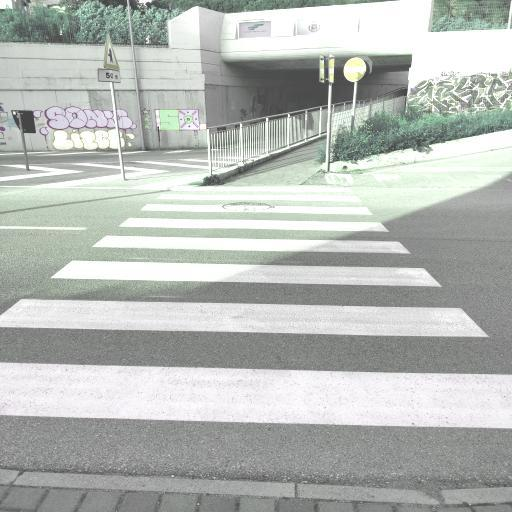crosswalk: (0, 291, 512, 437), (84, 214, 416, 256)
